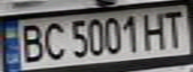0: (84, 16, 106, 57), (103, 15, 124, 55)
1: (121, 12, 142, 53)
5: (66, 17, 90, 60)
B: (15, 21, 48, 64)
C: (39, 19, 69, 62)
H: (139, 9, 172, 51)
T: (160, 7, 190, 50)
